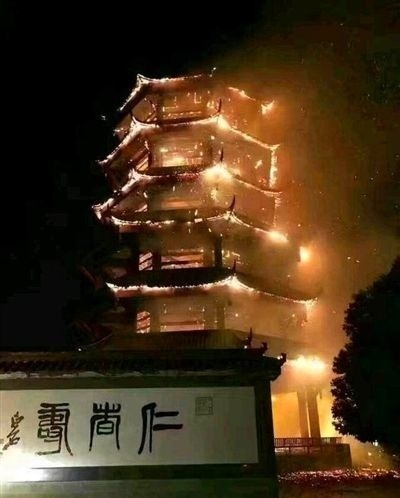fire: (101, 61, 315, 336)
